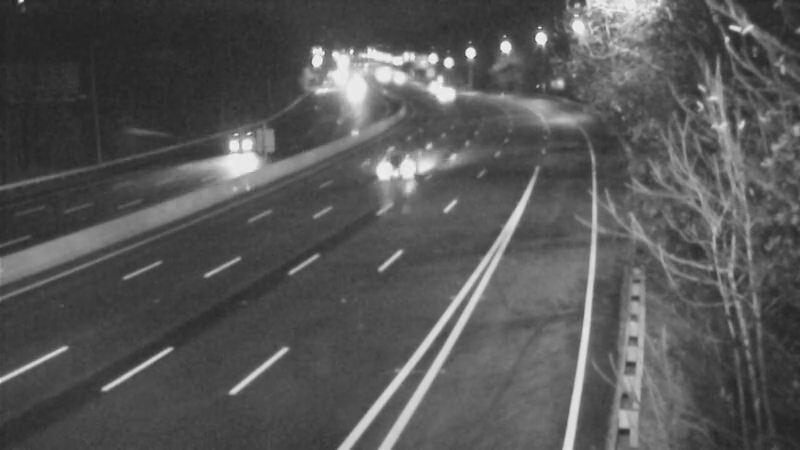vehicle: (356, 122, 436, 202), (403, 59, 453, 109), (412, 69, 462, 119), (217, 120, 267, 170)
